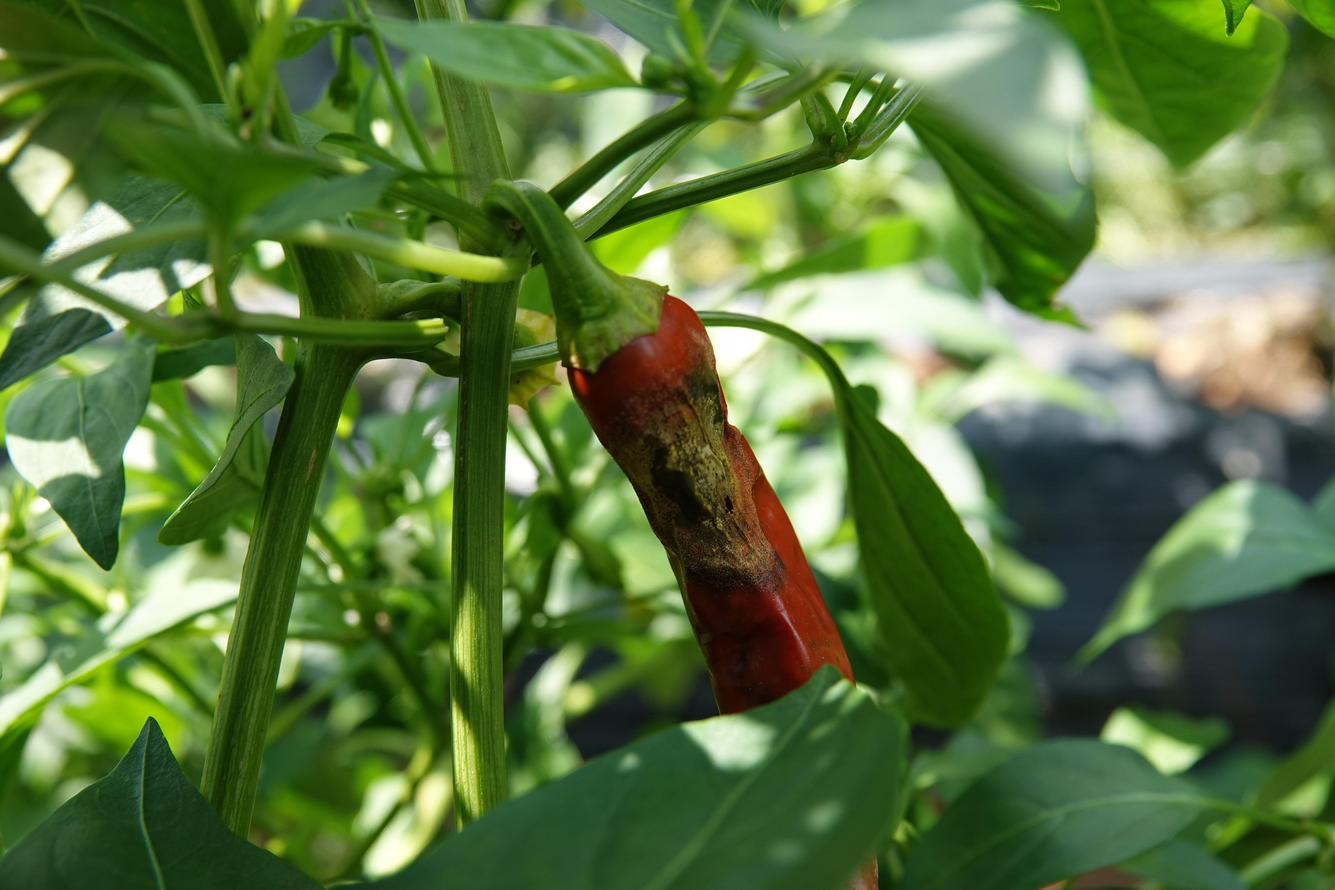Busuk Buah Antraknosa: (556, 272, 860, 729)
